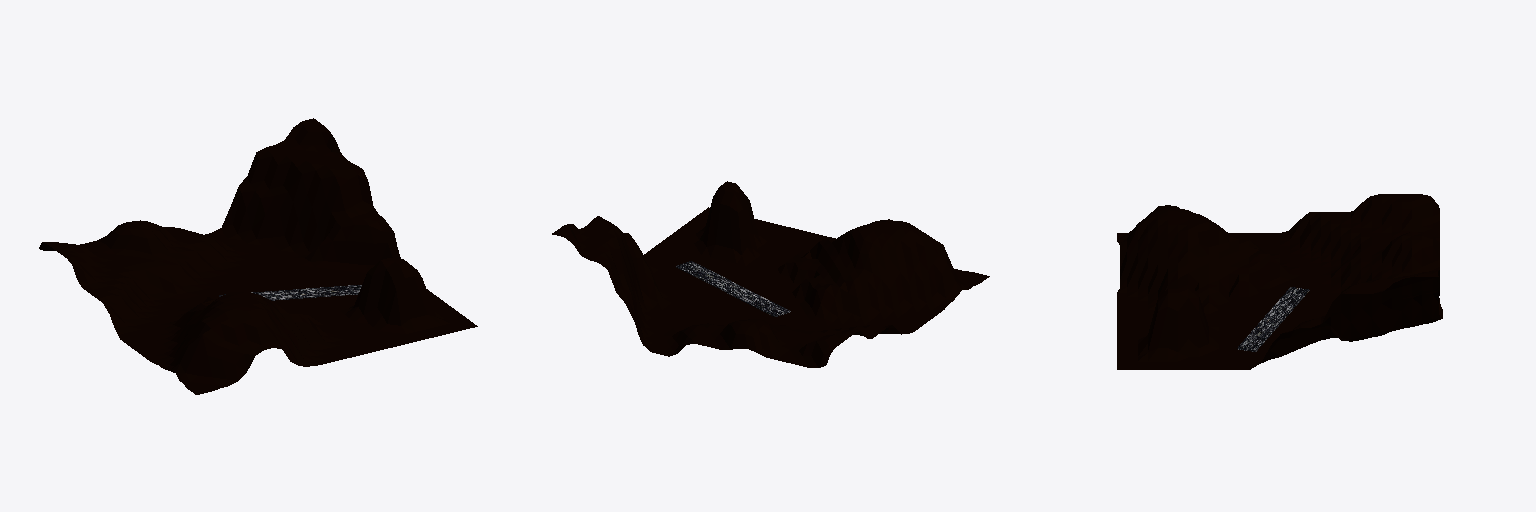
The picture shows the model from 3 angles: view 1: azimuth 30°, elevation 25°; view 2: azimuth 150°, elevation 25°; view 3: azimuth 270°, elevation 25°; orthographic projection.
Visible parts, largest first — view 1: Plane, Cube; view 2: Plane, Cube; view 3: Plane, Cube.
Part boxes in pixels (bbox=[...]): Plane: bbox=[39, 118, 477, 394]; Cube: bbox=[219, 285, 361, 300]; Plane: bbox=[552, 181, 989, 367]; Cube: bbox=[676, 261, 790, 316]; Plane: bbox=[1117, 194, 1442, 369]; Cube: bbox=[1237, 287, 1309, 351].
Size of the model in its own units: 31.84 by 9.99 by 31.84.
2 materials, 1 textured.